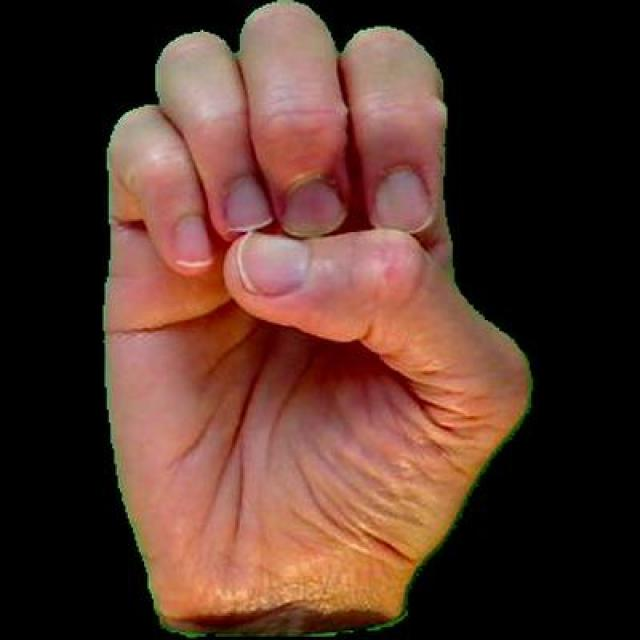e: (98, 0, 536, 637)
